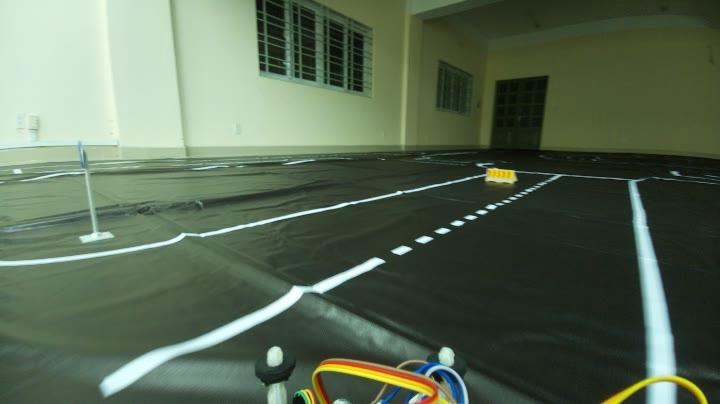onewayroad: (75, 136, 90, 172)
roadblock: (480, 165, 518, 185)
